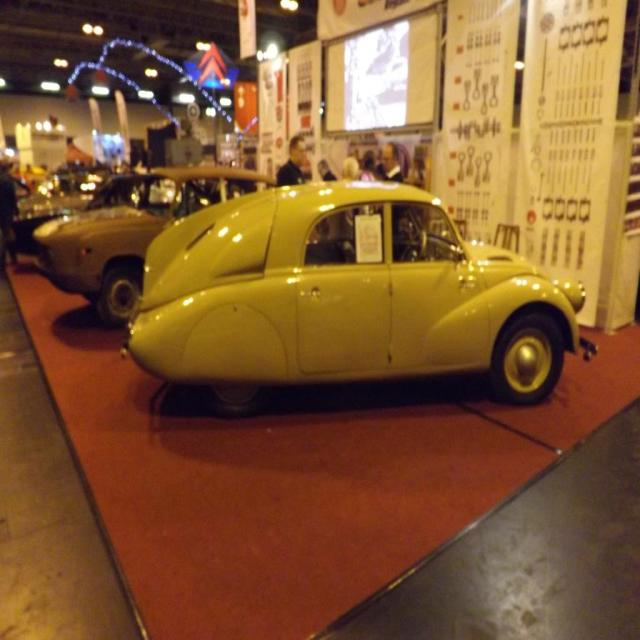car: (121, 177, 598, 409)
